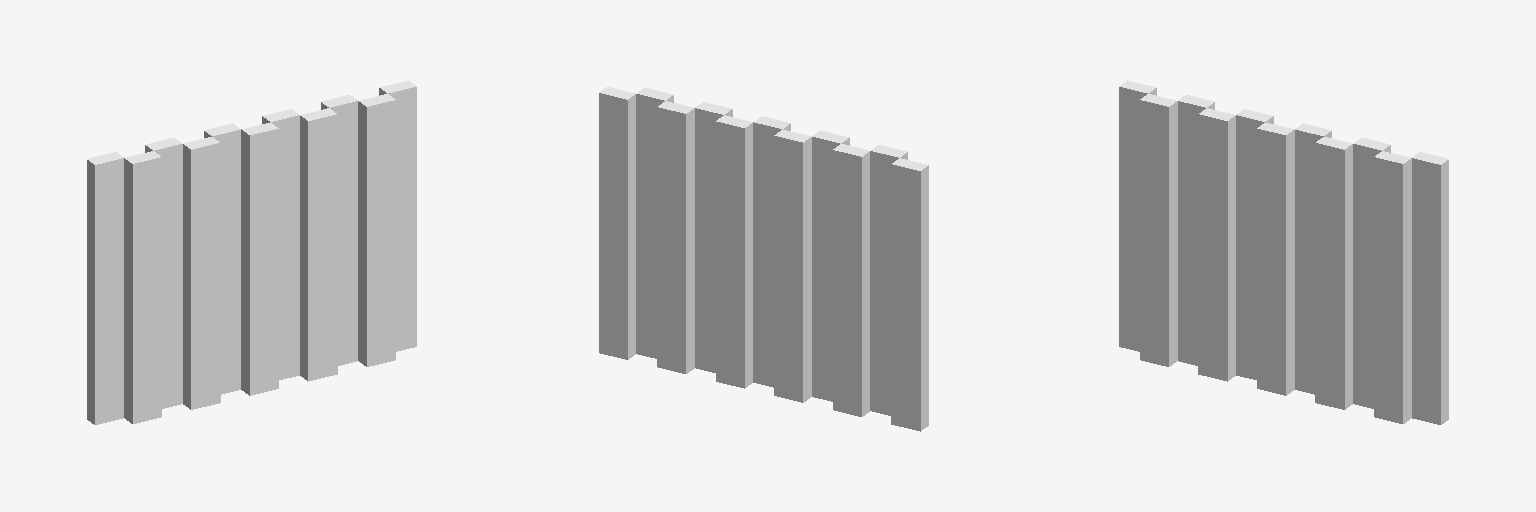
Rendered from Debris_MetalSheet.obj.
3 renders of one model, left to right at view 1: azimuth 30°, elevation 25°; view 2: azimuth 150°, elevation 25°; view 3: azimuth 330°, elevation 25°, orthographic.
Visible parts, largest first — view 1: object 1; view 2: object 1; view 3: object 1.
Boxes of the visible parts, x1,y1,x2,y2 form: object 1: [87, 80, 416, 424]; object 1: [599, 87, 928, 431]; object 1: [1119, 80, 1448, 424].
Bounding box in the file's own units: 2.2 × 1.7 × 0.2.